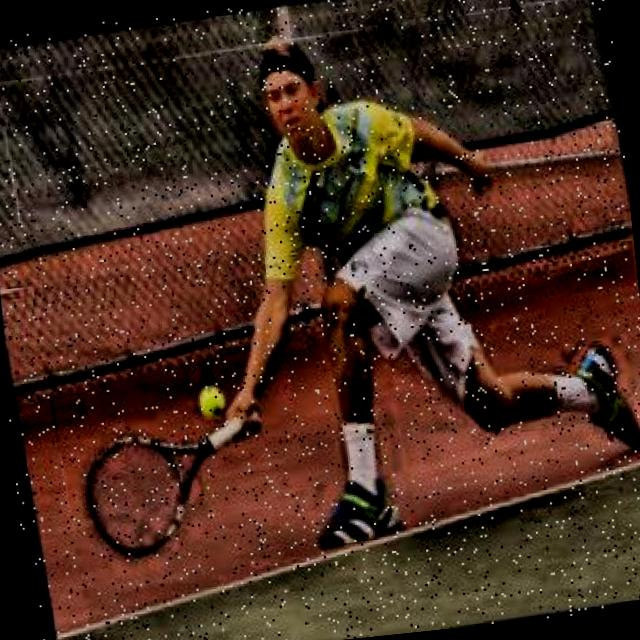tennis-ball: (194, 382, 226, 421)
